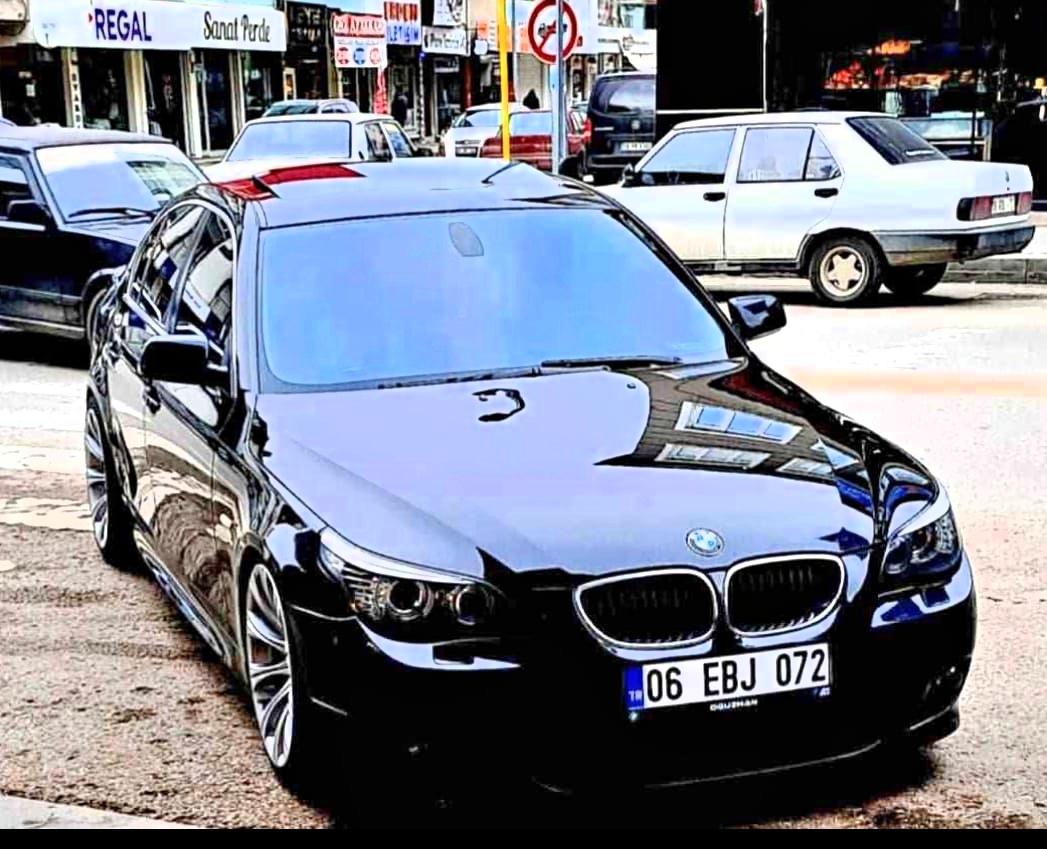plaka: (643, 640, 851, 720)
